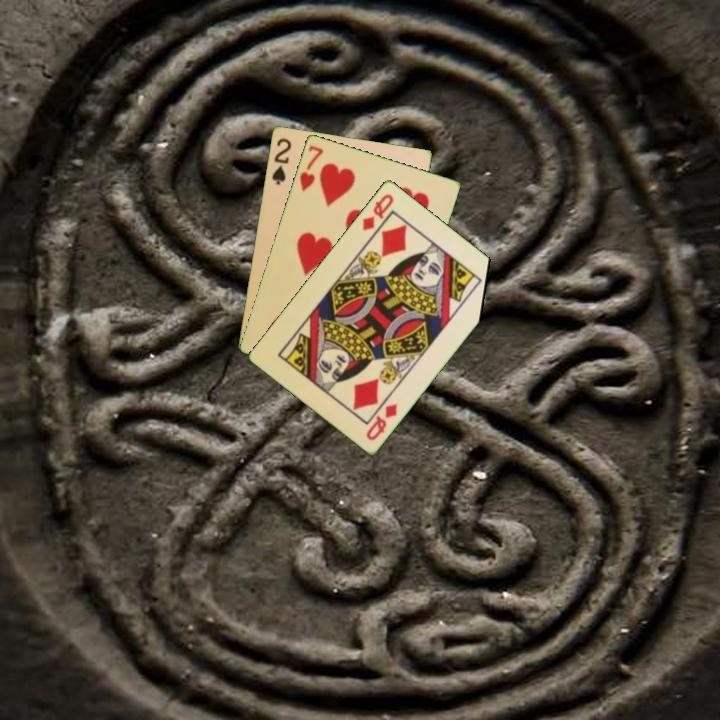2s: (268, 134, 294, 188)
7h: (296, 141, 326, 195)
Qd: (362, 399, 400, 443), (359, 190, 397, 233)
